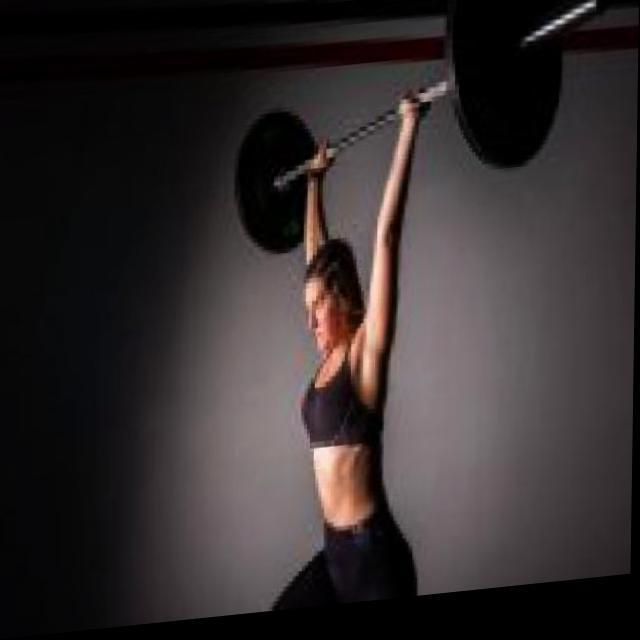barbell: (445, 1, 623, 189)
